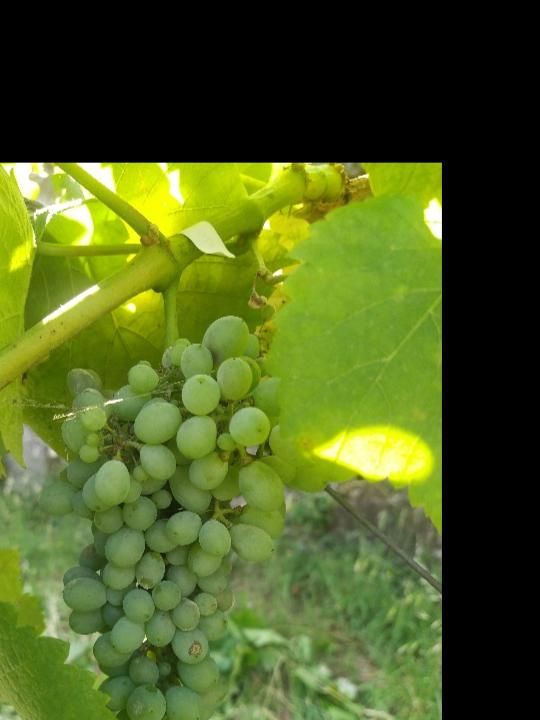grape: (54, 312, 296, 720)
